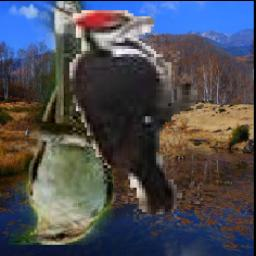Cuckoo: (10, 2, 115, 246)
Woodpecker: (71, 11, 234, 237)
